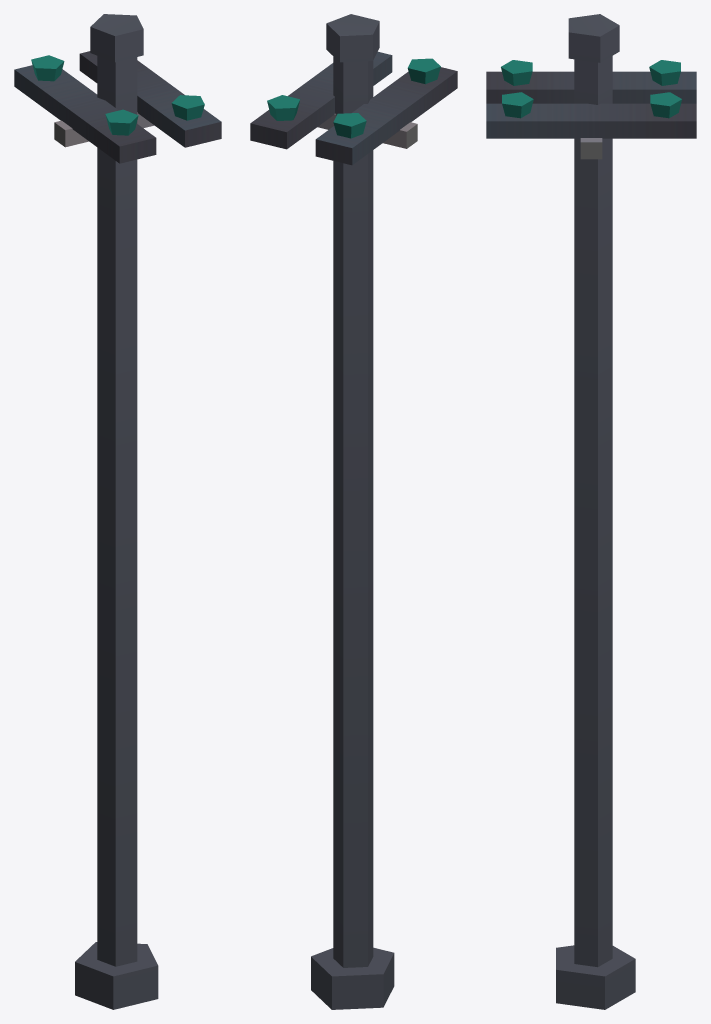
Rendered from SM_Electric_Pole_1B.FBX.
The picture shows the model from 3 angles, left to right: view 1: azimuth 30°, elevation 25°; view 2: azimuth 150°, elevation 25°; view 3: azimuth 270°, elevation 25°; orthographic projection.
Visible parts, largest first — view 1: SM_Electric_Pole_1B; view 2: SM_Electric_Pole_1B; view 3: SM_Electric_Pole_1B.
Boxes of the visible parts, left/top/right/bottom form: SM_Electric_Pole_1B: left=14, top=14, right=221, bottom=1009; SM_Electric_Pole_1B: left=250, top=14, right=457, bottom=1009; SM_Electric_Pole_1B: left=486, top=14, right=696, bottom=1009.
Size of what is drawn, in the model's own units: 130 by 200 by 1014.
